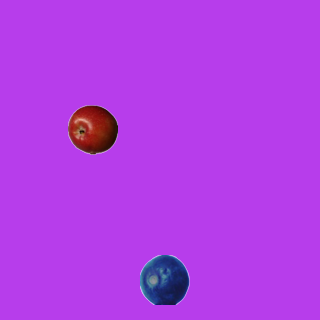Apple Braeburn: (67, 104, 117, 154)
Huckleberry: (139, 254, 189, 304)
